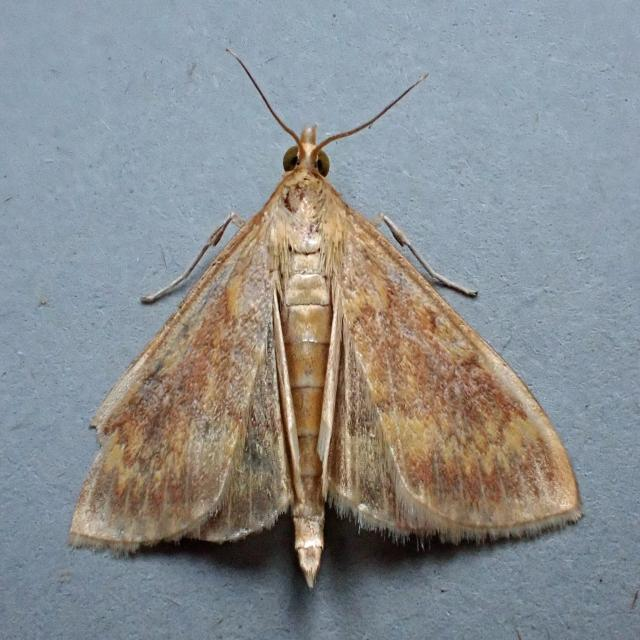cornborer-Adult-: (69, 43, 585, 593)
